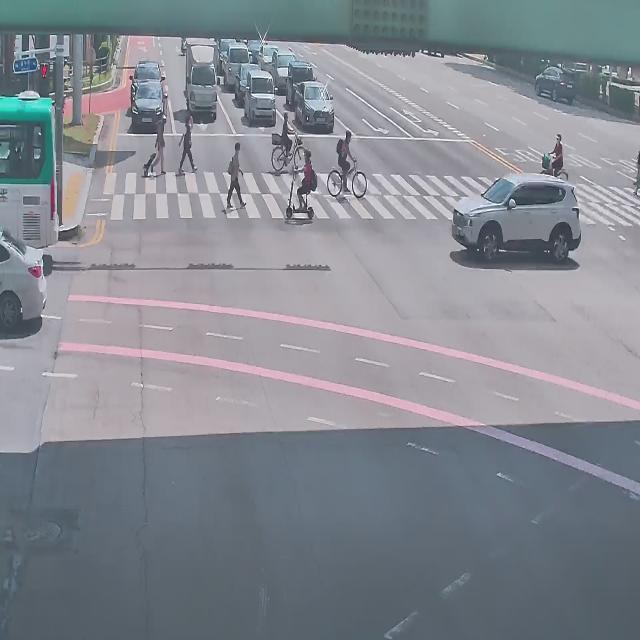Bus: (0, 83, 67, 250)
Car: (452, 171, 582, 262), (0, 227, 47, 330), (293, 80, 335, 134), (245, 70, 278, 129), (126, 56, 166, 104), (132, 79, 167, 131), (535, 65, 576, 106), (284, 58, 316, 105), (234, 61, 262, 107), (271, 47, 295, 89), (259, 42, 280, 72)
Truck: (184, 44, 219, 120), (222, 44, 253, 91)
